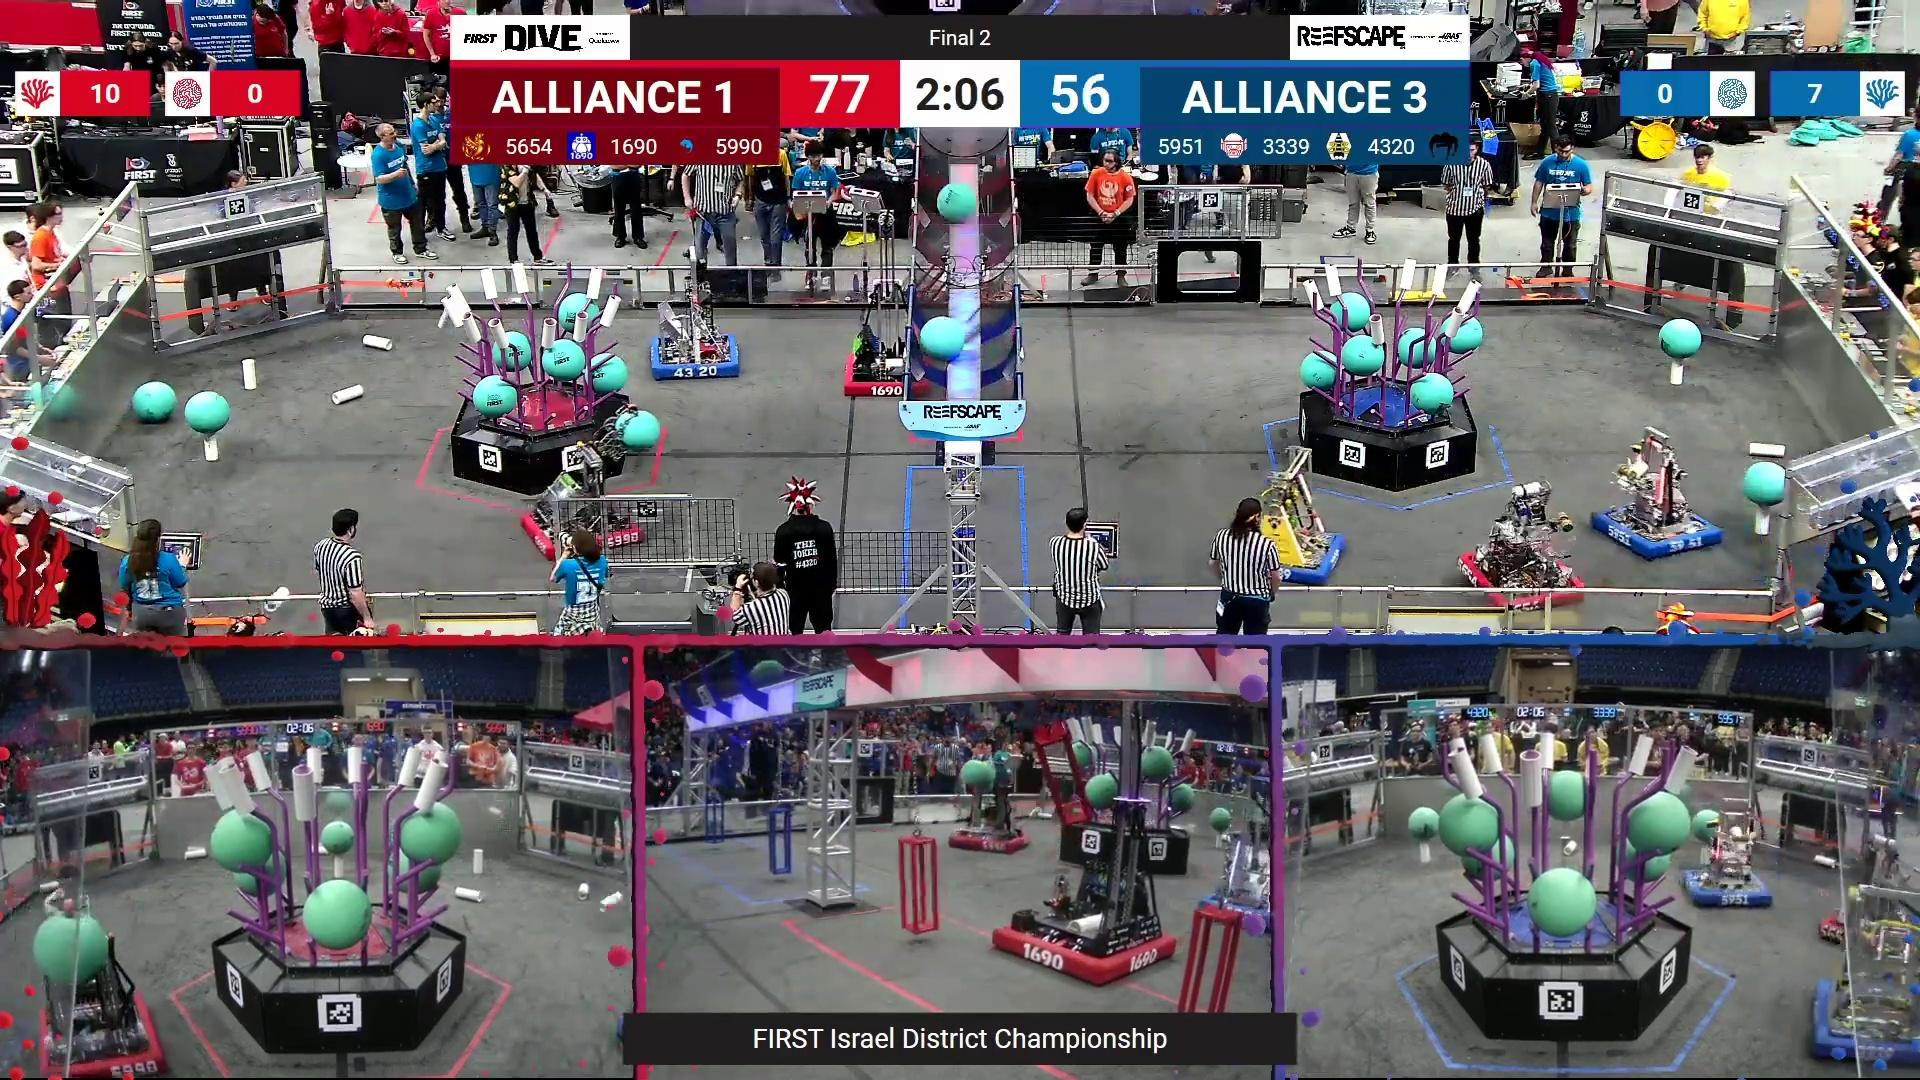robot: (994, 700, 1176, 985), (37, 895, 165, 1077), (520, 409, 646, 560), (1811, 897, 1920, 1072), (1218, 443, 1345, 585), (1594, 427, 1724, 560), (843, 218, 932, 396), (1458, 479, 1580, 607), (1817, 828, 1920, 948), (650, 244, 740, 380), (1681, 804, 1772, 910), (1197, 825, 1271, 927), (949, 770, 1030, 856)
